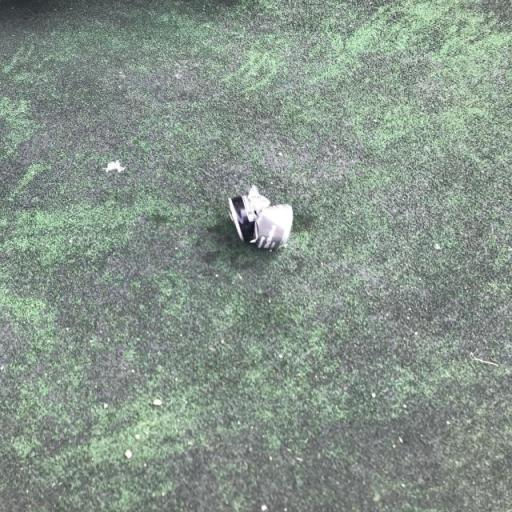metal: (217, 182, 330, 270)
